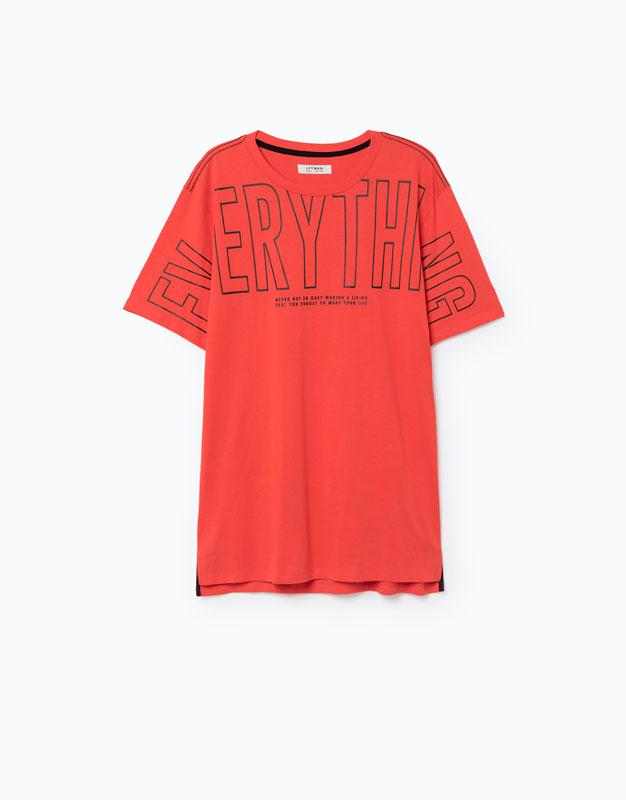teeshirt: (119, 116, 518, 617)
